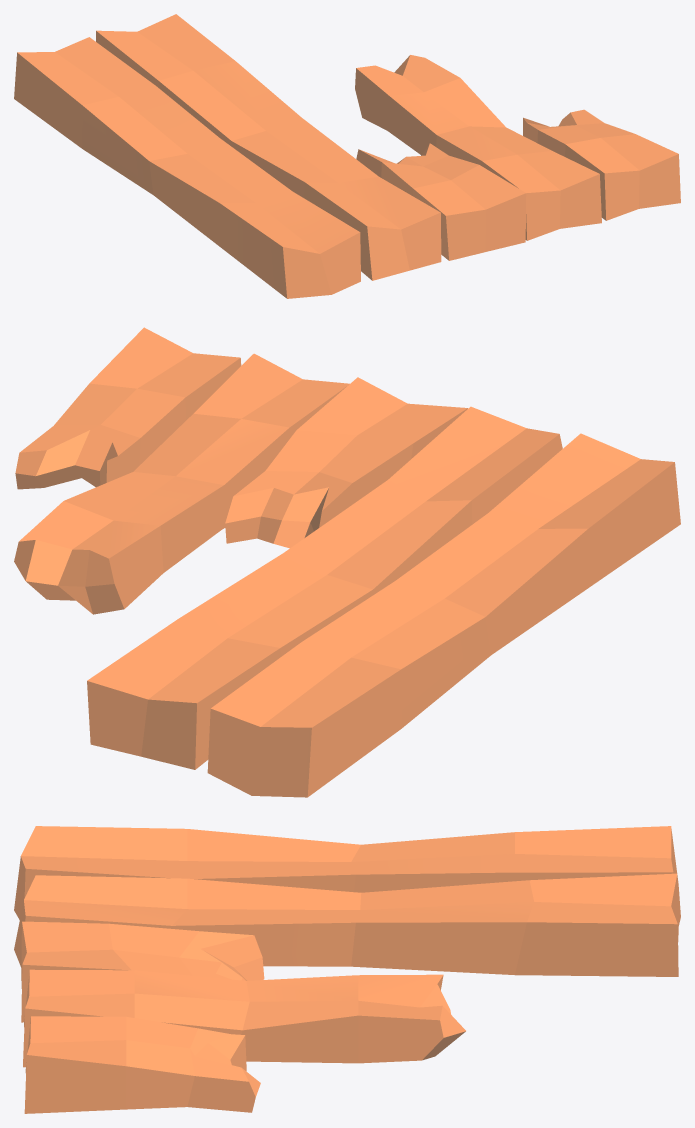
Rendered from PlatformS_Wood5.fbx.
3 renders of one model, top to bottom at view 1: azimuth 30°, elevation 25°; view 2: azimuth 150°, elevation 25°; view 3: azimuth 270°, elevation 25°, orthographic. The views are drawn at different scales.
Visible parts, largest first — view 1: WoodPlank4, WoodPlank5, WoodPlank7, WoodPlank11, WoodPlank12; view 2: WoodPlank4, WoodPlank5, WoodPlank7, WoodPlank11, WoodPlank12; view 3: WoodPlank5, WoodPlank4, WoodPlank7, WoodPlank12, WoodPlank11.
Boxes of the visible parts, bbox=[...] form: WoodPlank4: bbox=[14, 37, 360, 298]; WoodPlank5: bbox=[96, 14, 441, 280]; WoodPlank7: bbox=[355, 55, 601, 240]; WoodPlank11: bbox=[356, 143, 526, 260]; WoodPlank12: bbox=[523, 109, 680, 220]; WoodPlank4: bbox=[207, 433, 680, 797]; WoodPlank5: bbox=[87, 406, 562, 769]; WoodPlank7: bbox=[14, 353, 349, 614]; WoodPlank11: bbox=[225, 377, 467, 548]; WoodPlank12: bbox=[15, 327, 241, 489]; WoodPlank5: bbox=[14, 873, 678, 976]; WoodPlank4: bbox=[14, 826, 680, 925]; WoodPlank7: bbox=[23, 969, 465, 1067]; WoodPlank12: bbox=[24, 1016, 260, 1113]; WoodPlank11: bbox=[21, 921, 264, 1022].
Bounding box in the file's own units: 323 × 44.39 × 396.
